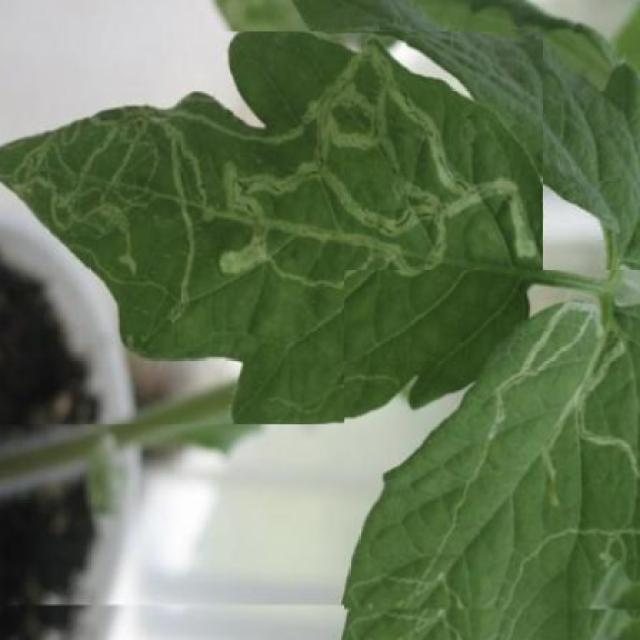Leaf Miner: (0, 32, 543, 424), (344, 270, 640, 640)
